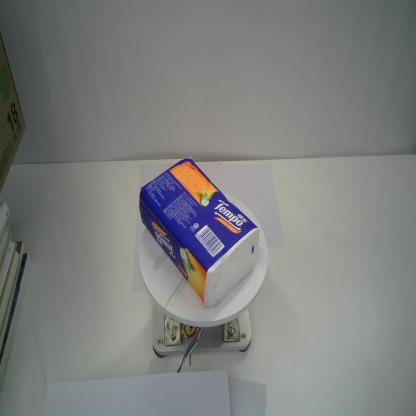Tissue: (138, 155, 262, 312)
